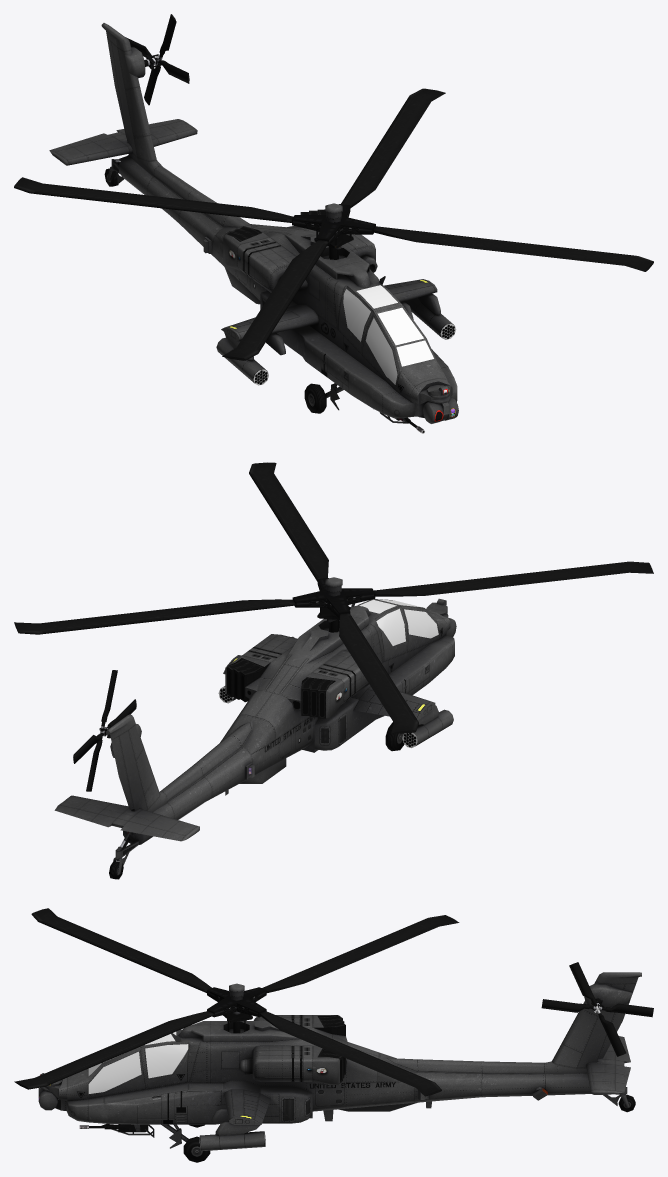
3 views of the same model, one above another, from view 1: azimuth 30°, elevation 25°; view 2: azimuth 150°, elevation 25°; view 3: azimuth 270°, elevation 25° (orthographic). The views are drawn at different scales.
Visible parts, largest first — view 1: hull, main_rotor, glass, tail_rotor; view 2: hull, main_rotor, glass, tail_rotor; view 3: hull, main_rotor, glass, tail_rotor.
Part boxes in pixels (x1=…): hull: x1=49, y1=23, x2=458, y2=433; main_rotor: x1=14, y1=88, x2=653, y2=360; glass: x1=343, y1=285, x2=433, y2=384; tail_rotor: x1=125, y1=14, x2=189, y2=105; hull: x1=54, y1=577, x2=456, y2=879; main_rotor: x1=14, y1=462, x2=653, y2=733; glass: x1=359, y1=599, x2=438, y2=645; tail_rotor: x1=73, y1=670, x2=136, y2=791; hull: x1=38, y1=972, x2=641, y2=1162; main_rotor: x1=14, y1=908, x2=459, y2=1096; glass: x1=88, y1=1031, x2=188, y2=1093; tail_rotor: x1=541, y1=962, x2=653, y2=1056.
Size of the model in its own units: 11.18 by 5.43 by 16.06.
Materials: 2 (2 with a texture image).
